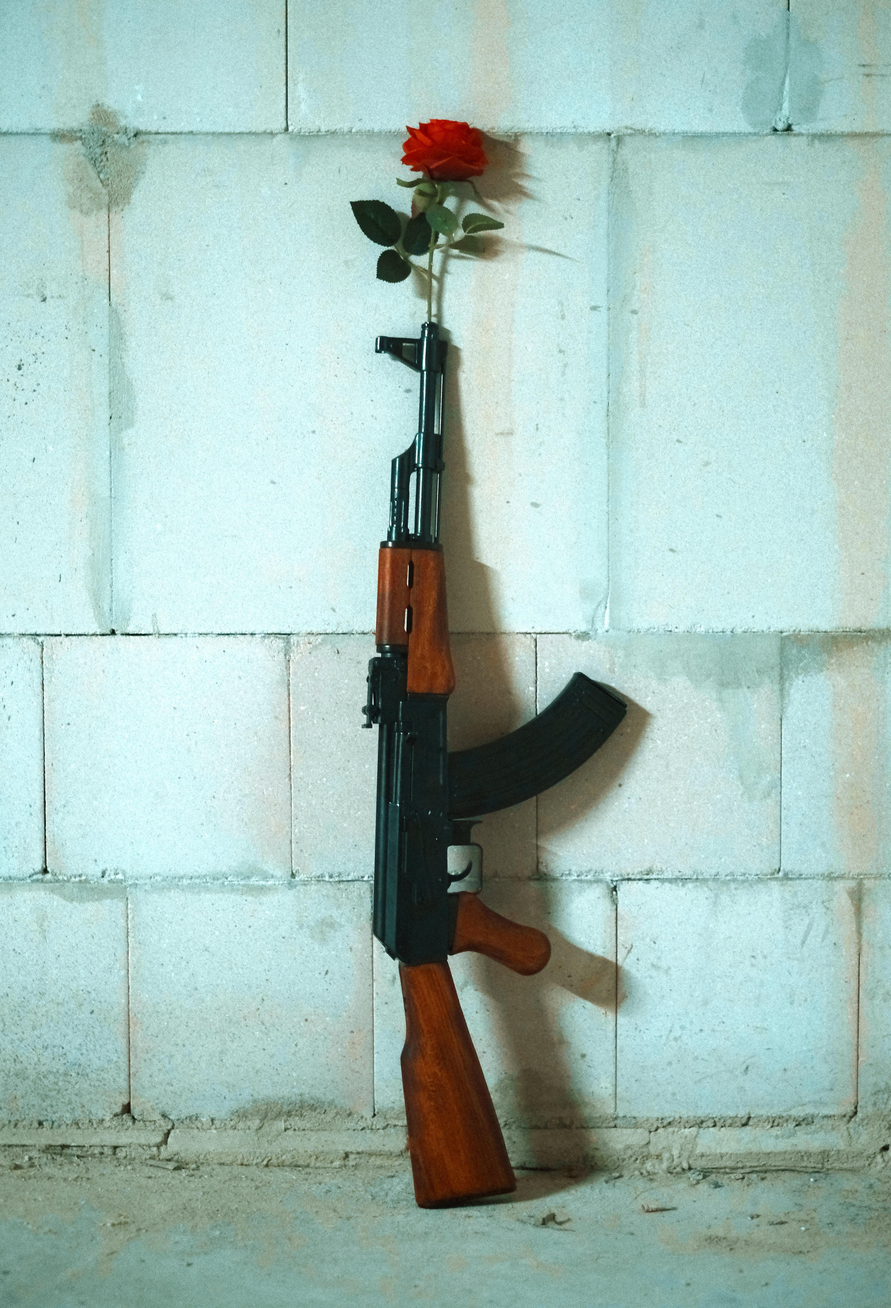larga: (359, 323, 631, 1210)
